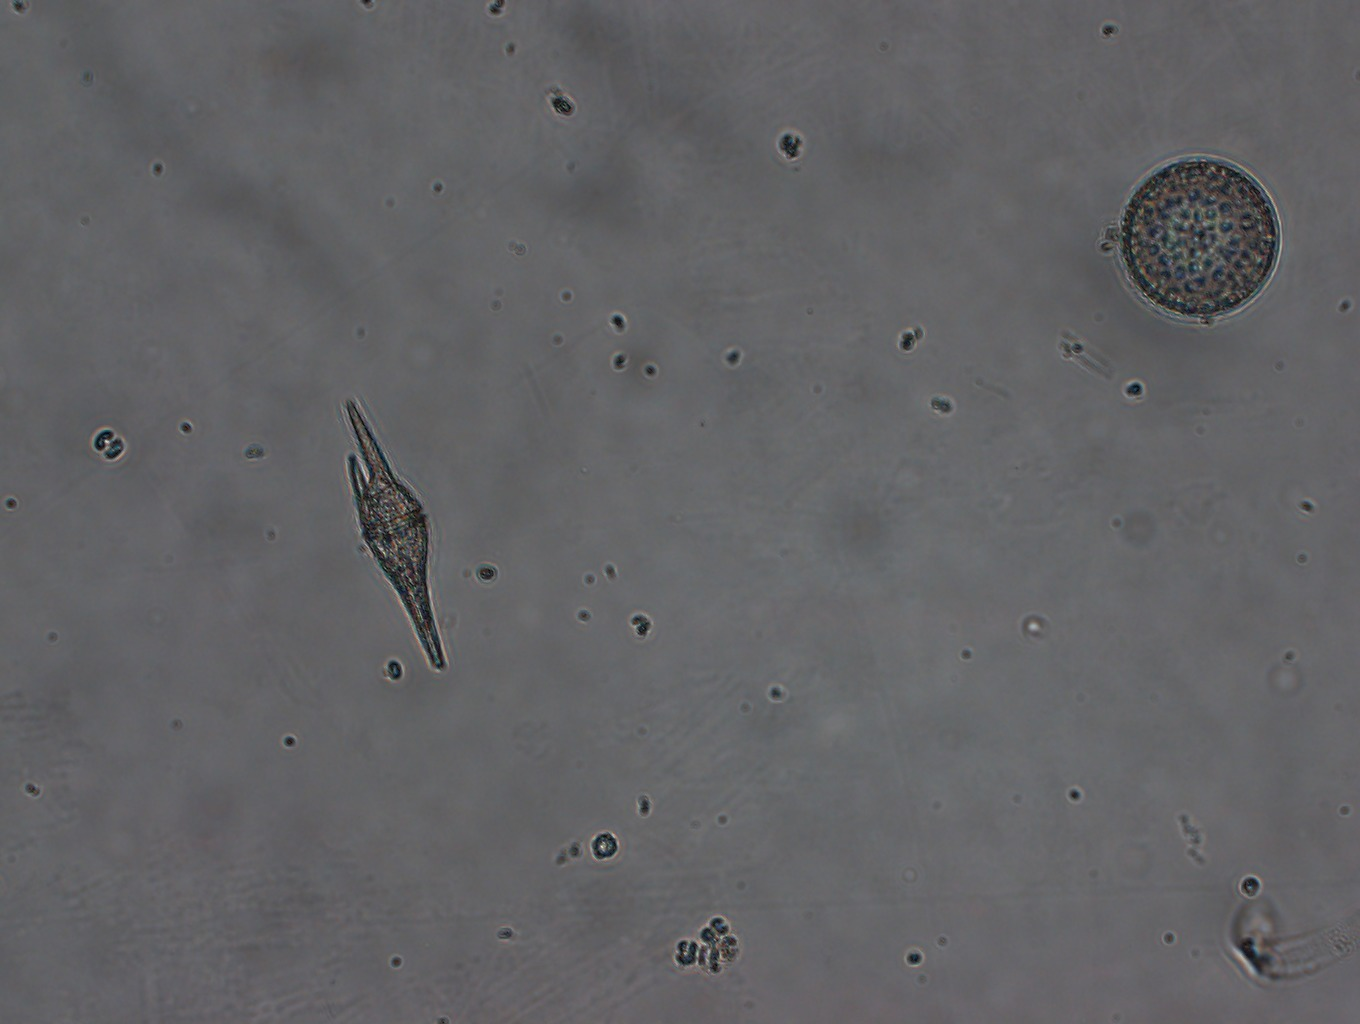ceratium furca: (342, 396, 447, 673)
coscinodiscus: (1116, 151, 1284, 323)
